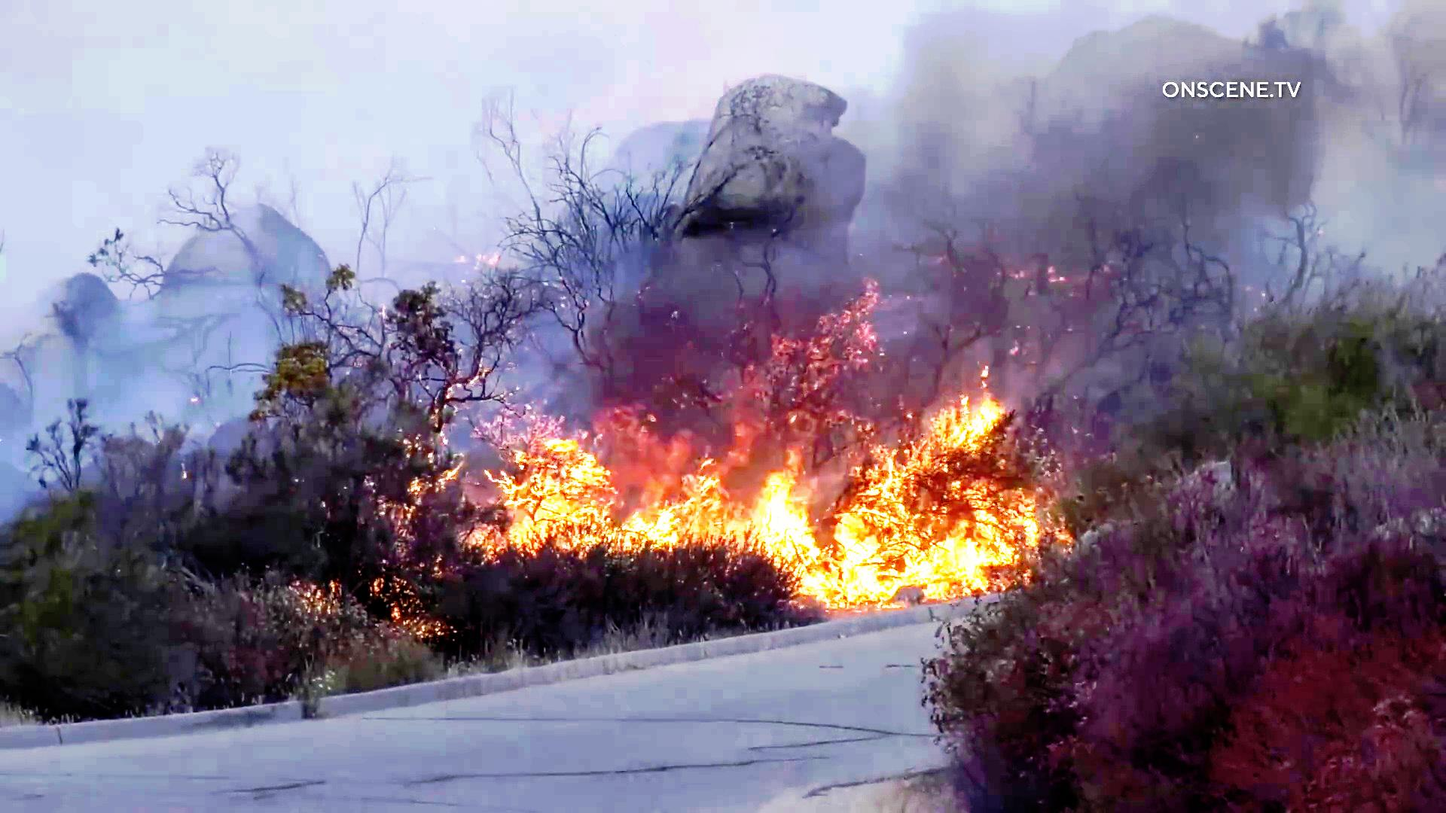fire: (816, 401, 1049, 602)
